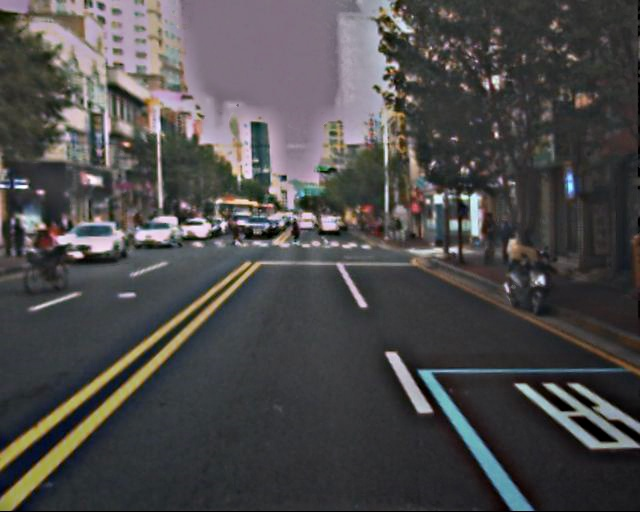person: (478, 213, 501, 269), (493, 213, 516, 269), (3, 217, 24, 258), (288, 217, 300, 247)
